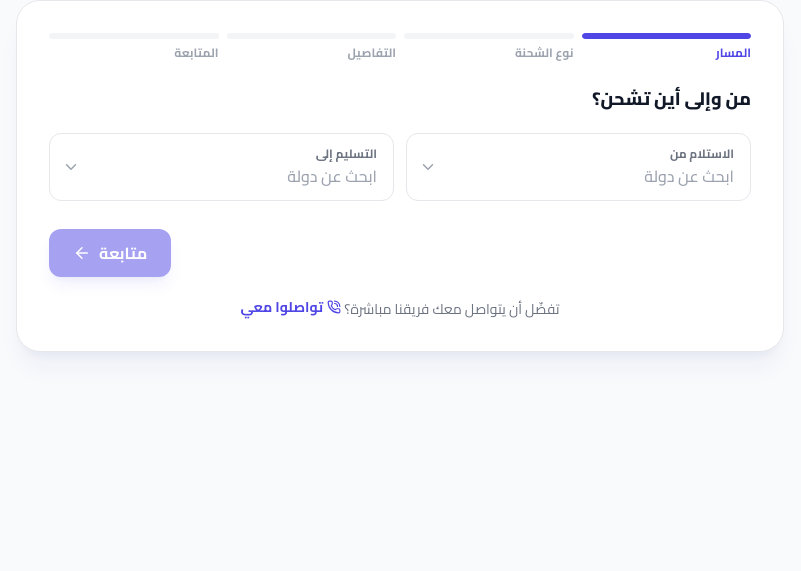
LandingShippingJourney › reveals shipment type only after both countries are chosen
The image size is (801, 571).
Expected: the text "ما نوع شحنتك؟" is not shown
Click the button "الاستلام من ابحث عن دولة": {"x": 702, "y": 154} [449, 134, 750, 200]
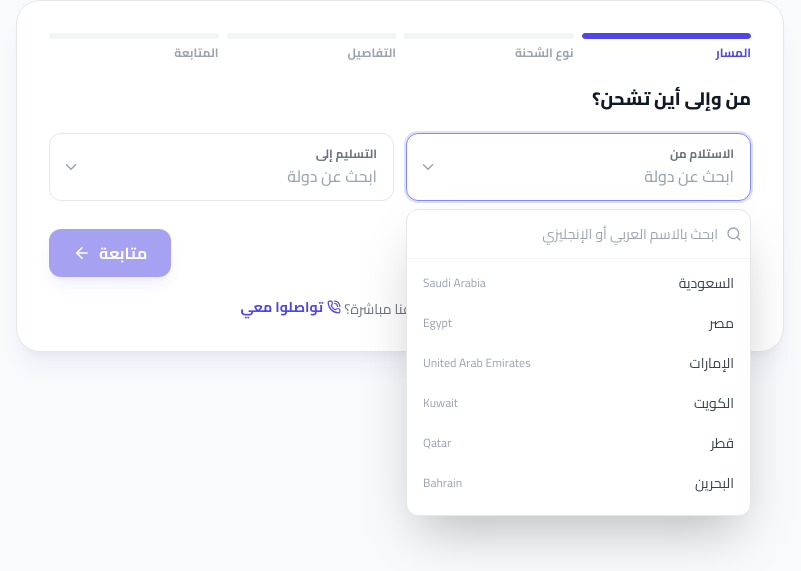
Click the option "السعودية Saudi Arabia": {"x": 706, "y": 283} [411, 263, 746, 303]
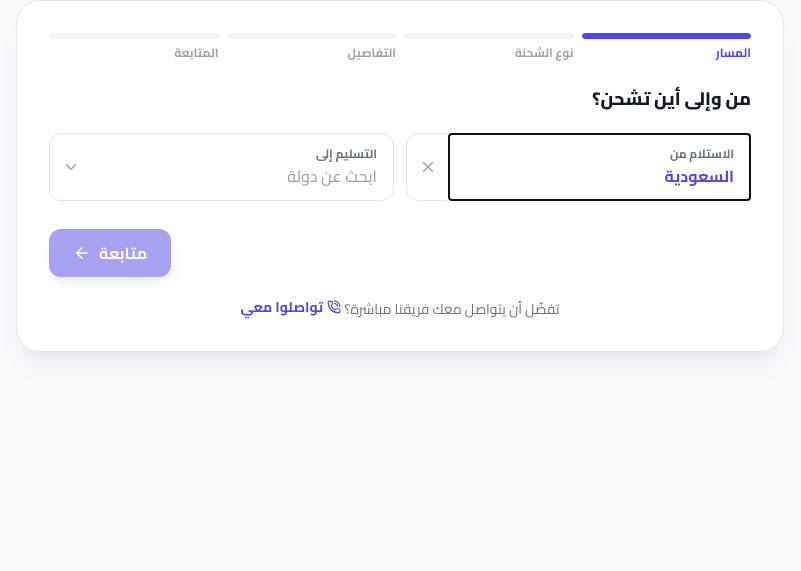
Expected: the text "ما نوع شحنتك؟" is not shown
Click the button "التسليم إلى ابحث عن دولة": {"x": 346, "y": 154} [92, 134, 393, 200]
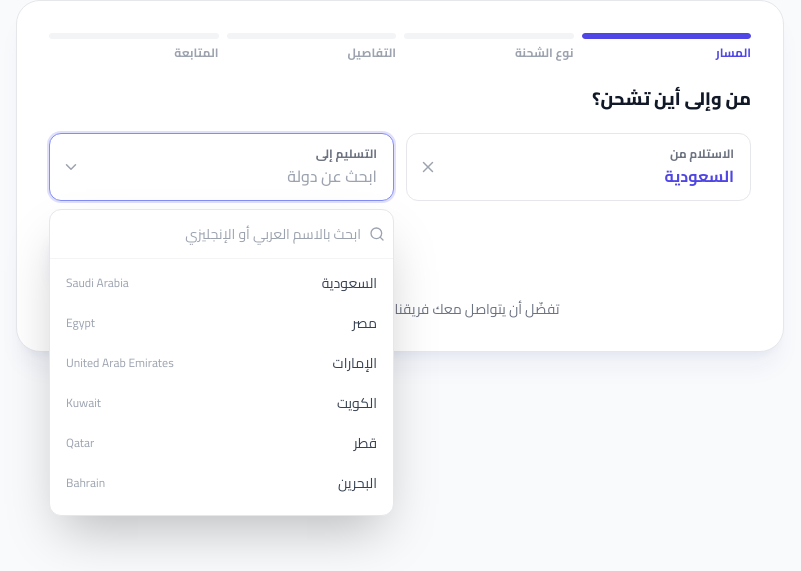
Click the option "مصر Egypt": {"x": 365, "y": 323} [54, 303, 389, 343]
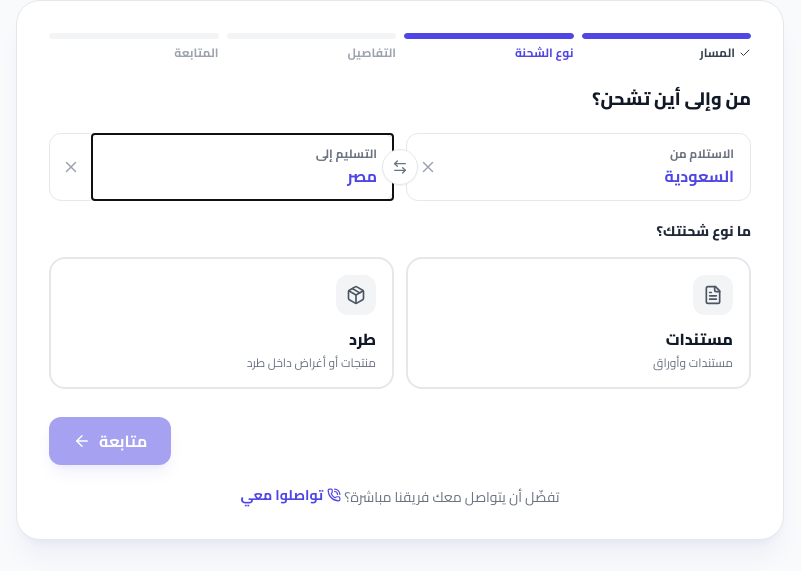
Now the text "ما نوع شحنتك؟" is shown, box [657, 221, 751, 241]
